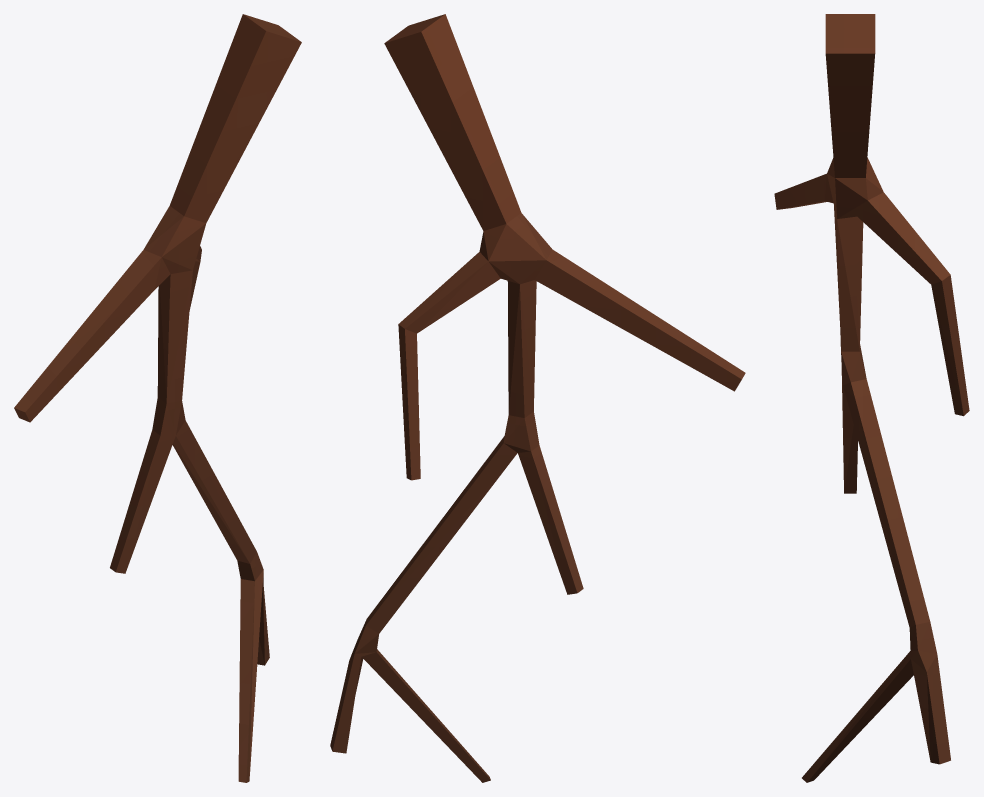
File: raiz.glb
The picture shows the model from 3 angles, left to right: view 1: azimuth 30°, elevation 25°; view 2: azimuth 150°, elevation 25°; view 3: azimuth 270°, elevation 25°; orthographic projection. The views are drawn at different scales.
Parts seen in each view (by area): view 1: TreeRootB; view 2: TreeRootB; view 3: TreeRootB.
Part boxes in pixels (box(x1,y1,x2,y2)): TreeRootB: box(14, 14, 301, 782); TreeRootB: box(330, 14, 745, 782); TreeRootB: box(774, 14, 969, 782).
Size of the model in its own units: 0.8818 by 1.9 by 0.4307.
1 material, 1 textured.
